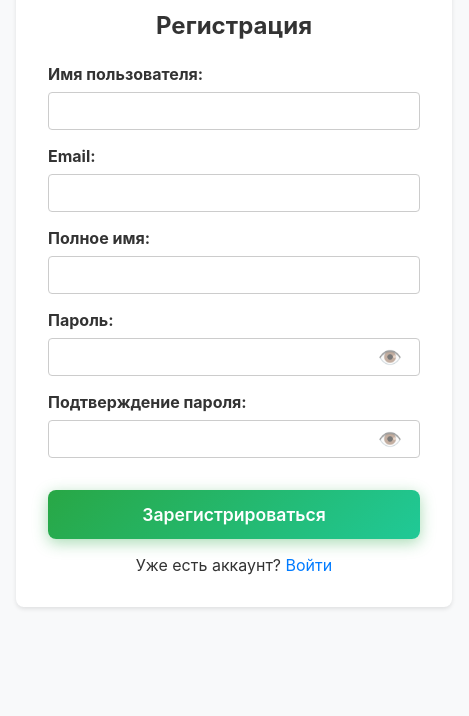
Scenario: Register Component › shows error on failed registration
Type "existinguser" into the field labelled "Имя пользователя:" at (234,111), box left=48, top=92, right=420, bottom=130
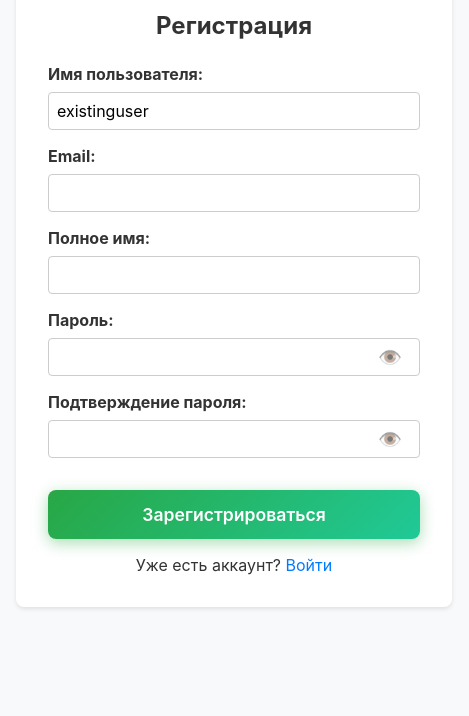
Type "test@example.com" into the field labelled "Email:" at (234,193), box left=48, top=174, right=420, bottom=212
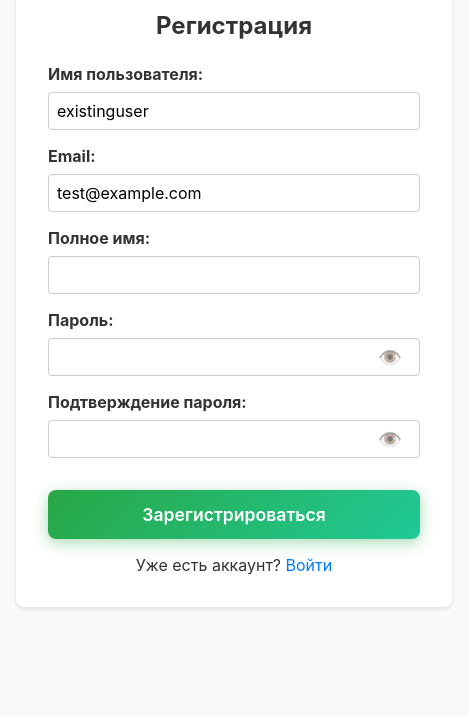
Type "password123" into the password field labelled "Пароль:" at (234,357), box left=48, top=338, right=420, bottom=376
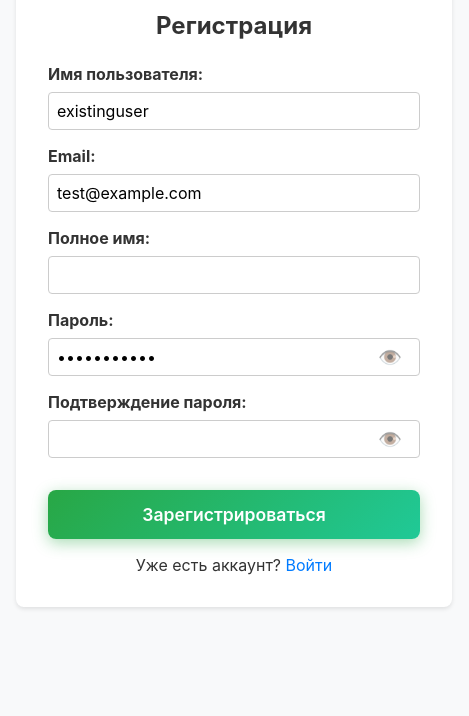
Type "password123" into the password field labelled "Подтверждение пароля:" at (234,439), box left=48, top=420, right=420, bottom=458
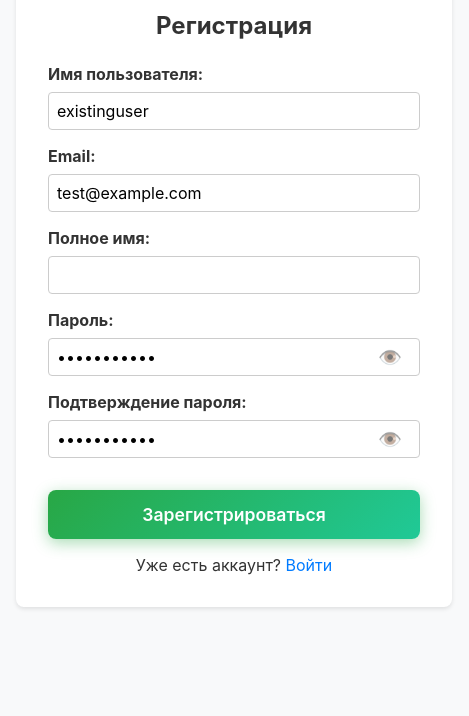
Click the button "Зарегистрироваться" at (234,514), box left=48, top=490, right=420, bottom=539
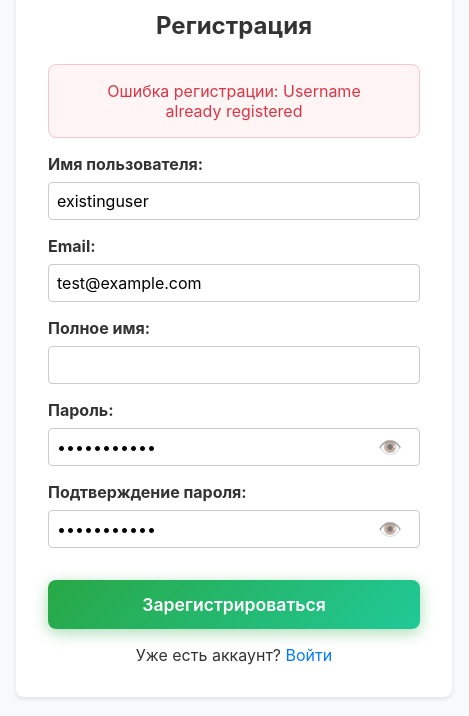
Expected: the text "Ошибка регистрации: Username already registered" is shown, left=48, top=64, right=420, bottom=138
